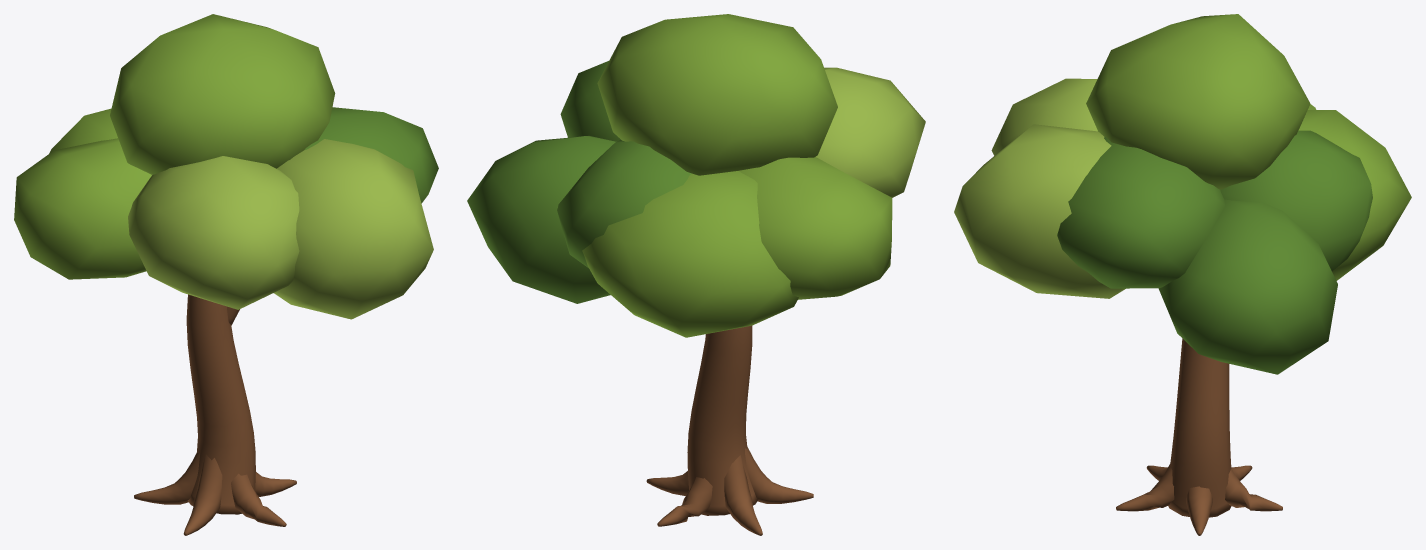
File: Oak_variant_3.glb
3 views of the same model, side by side, from view 1: azimuth 30°, elevation 25°; view 2: azimuth 150°, elevation 25°; view 3: azimuth 270°, elevation 25° (orthographic). The views are drawn at different scales.
Parts seen in each view (by area): view 1: Oak_variant_3; view 2: Oak_variant_3; view 3: Oak_variant_3.
Boxes of the visible parts, x1,y1,x2,y2 form: Oak_variant_3: [14, 14, 438, 535]; Oak_variant_3: [467, 14, 925, 535]; Oak_variant_3: [954, 14, 1411, 535].
Size of the model in its own units: 7.97 by 9.37 by 8.13.
